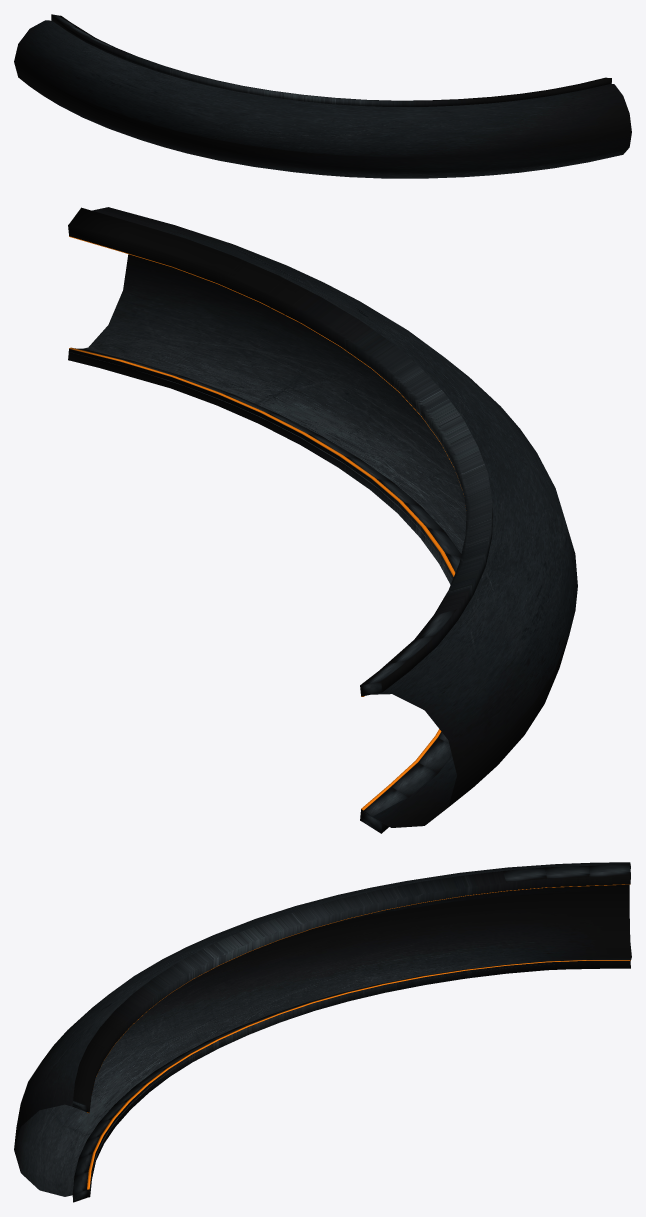
Rendered from Block_90_half.fbx.
3 views of the same model, one above another, from view 1: azimuth 30°, elevation 25°; view 2: azimuth 150°, elevation 25°; view 3: azimuth 270°, elevation 25° (orthographic). The views are drawn at different scales.
Visible parts, largest first — view 1: Exterior, Borders Black; view 2: Exterior, Borders Black, Borders Color; view 3: Exterior, Borders Black, Borders Color.
Boxes of the visible parts, x1,y1,x2,y2 form: Exterior: (14, 20, 631, 178); Borders Black: (51, 14, 611, 106); Exterior: (68, 207, 577, 827); Borders Black: (68, 207, 492, 833); Borders Color: (69, 236, 455, 810); Exterior: (14, 862, 631, 1196); Borders Black: (72, 864, 630, 1202); Borders Color: (87, 884, 630, 1189).
Size of the model in its own units: 641 by 119 by 643.
